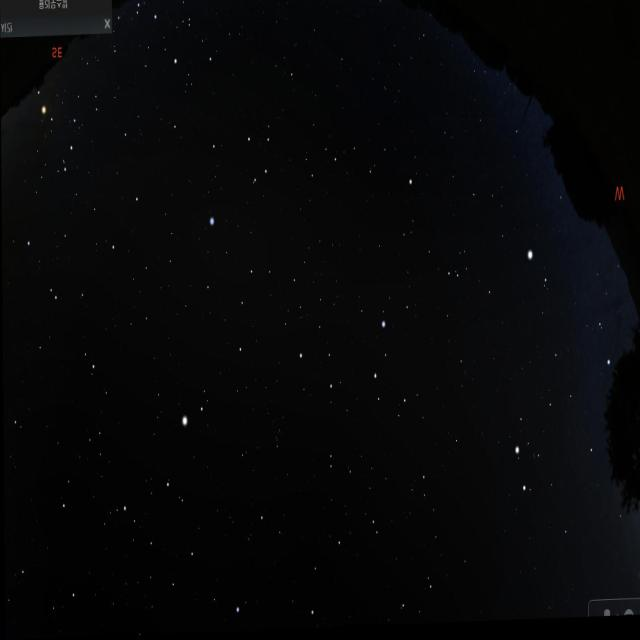bootes: (136, 405, 214, 603)
canis_minor: (518, 236, 562, 305)
gemini: (503, 339, 630, 516)
leo: (296, 304, 424, 446)
scorpius: (26, 72, 82, 189)
